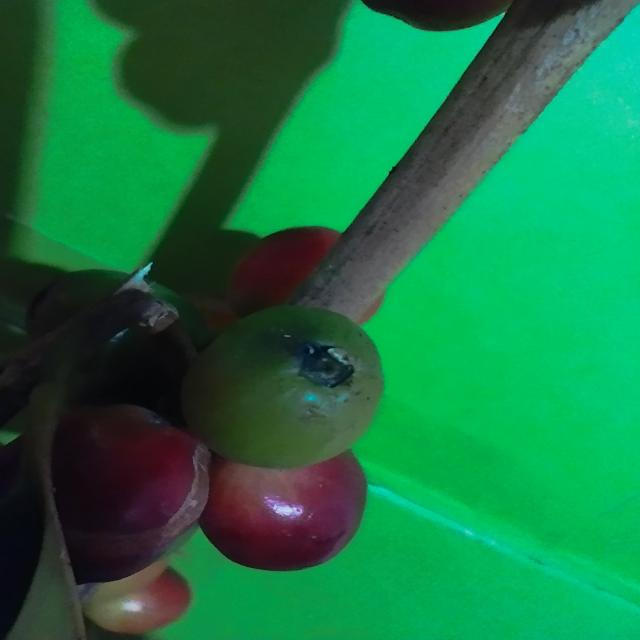Infectado: (180, 306, 386, 474)
Sano: (51, 404, 210, 586), (198, 449, 369, 574)
